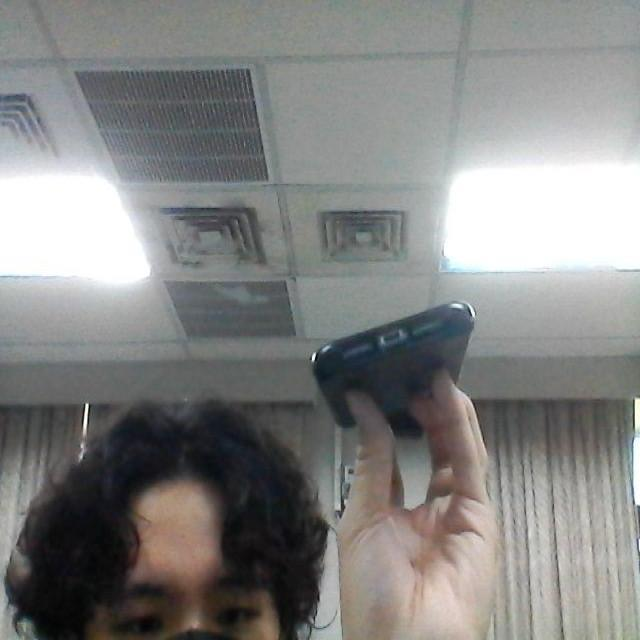Phone: (310, 296, 478, 434)
